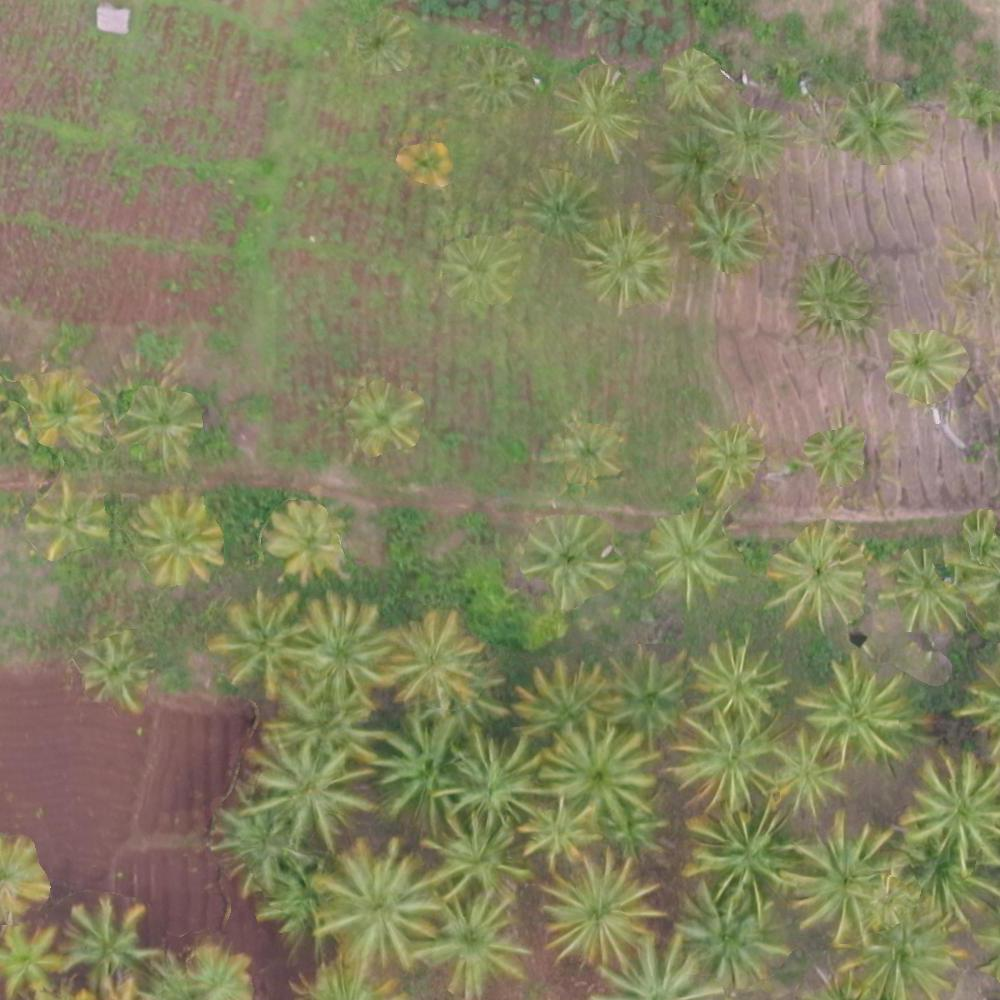Palm: (316, 845, 438, 965), (539, 859, 662, 974), (788, 823, 902, 940), (249, 734, 367, 844), (685, 805, 798, 917), (802, 658, 915, 766), (548, 718, 654, 830), (670, 709, 777, 814), (672, 883, 787, 980), (374, 715, 472, 822), (905, 751, 1000, 860), (441, 730, 550, 824), (847, 906, 958, 998), (424, 809, 529, 905), (427, 892, 525, 994), (297, 594, 394, 696), (219, 590, 308, 691), (769, 535, 870, 623), (130, 492, 221, 588), (688, 632, 788, 719), (391, 612, 482, 705), (603, 649, 694, 738), (525, 513, 617, 599), (555, 71, 640, 162), (882, 547, 969, 632), (583, 216, 669, 300), (68, 895, 150, 982), (767, 727, 849, 813), (836, 85, 925, 161), (20, 371, 102, 449), (647, 128, 730, 205), (650, 519, 733, 596), (266, 501, 345, 581), (683, 196, 761, 274), (794, 260, 877, 333), (512, 167, 588, 246), (886, 323, 965, 399), (715, 105, 794, 180), (437, 234, 518, 307), (519, 798, 599, 871), (35, 480, 110, 555), (82, 635, 151, 716), (123, 385, 197, 459), (551, 412, 623, 488), (686, 423, 762, 495), (350, 379, 423, 452), (3, 919, 70, 997), (463, 42, 532, 112), (661, 51, 724, 115), (806, 430, 868, 489), (351, 16, 412, 74), (399, 139, 453, 188)
